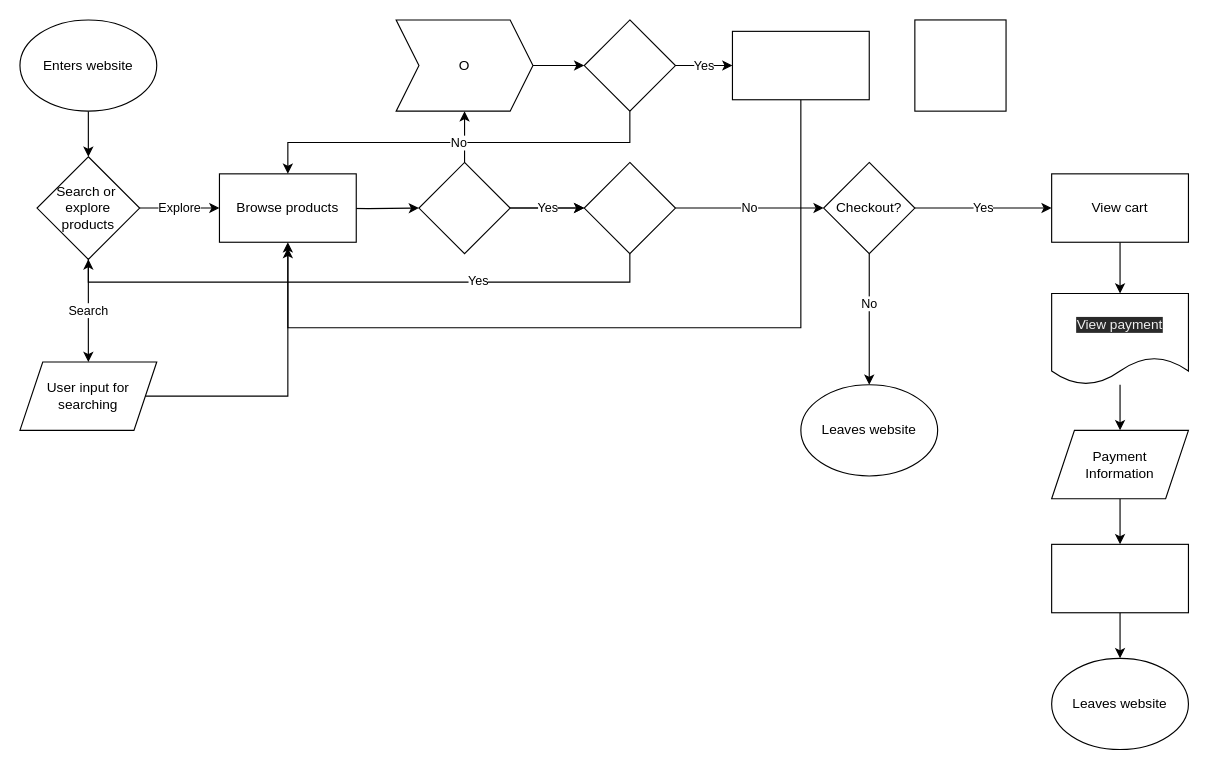
Some shapes in this 1208 by 770 pixel diagram are drawn without their labels. The centre of each missing label's shape, as x and y in pixels:
Add product to cart: point 629,65
Confirmation: point 800,65
Keep Shopping?: point 629,207
O product page: point 960,65
Order Confirmation and receive email: point 1119,578
Specific product: point 464,207
